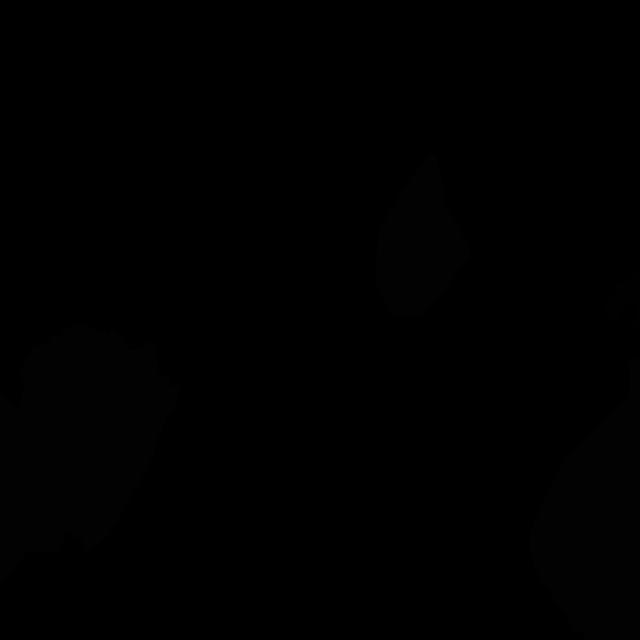cardboard: (0, 323, 180, 584), (529, 354, 640, 640), (376, 154, 471, 317)
rigid_plastic: (604, 271, 640, 336)
